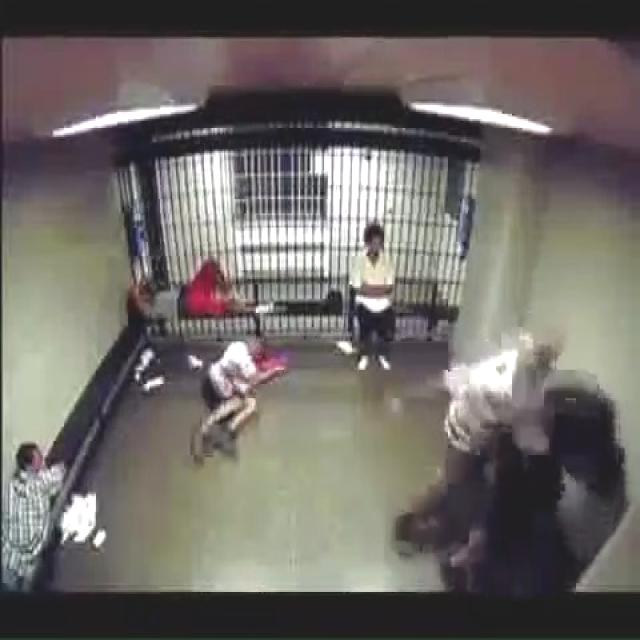fight: (429, 322, 626, 598)
